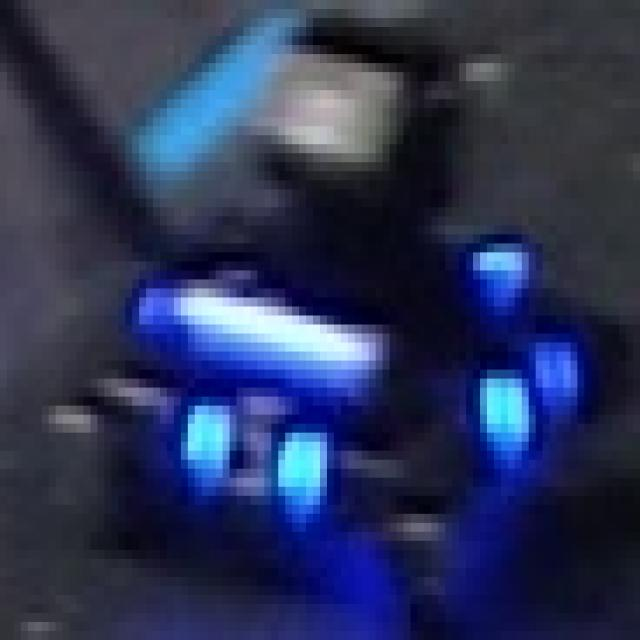B5: (174, 378, 341, 541)
